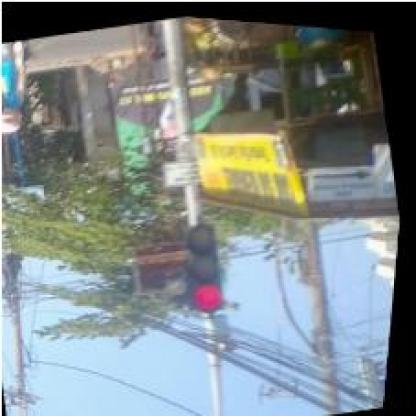red: (176, 212, 235, 312)
